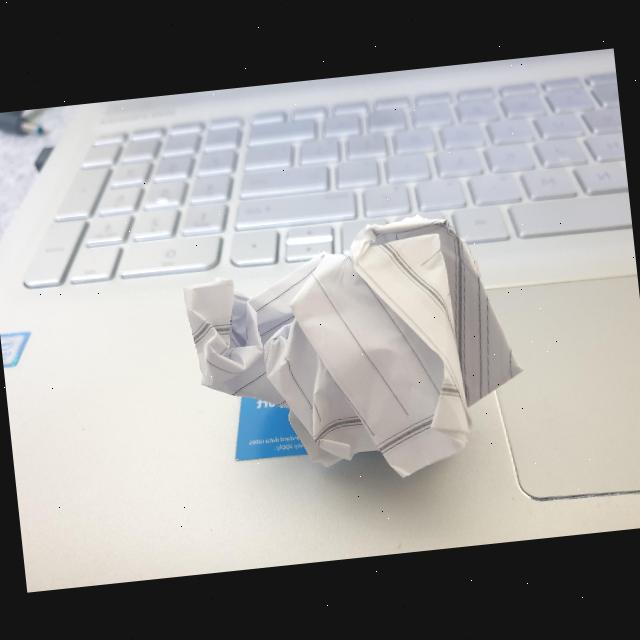trash: (171, 198, 536, 504)
